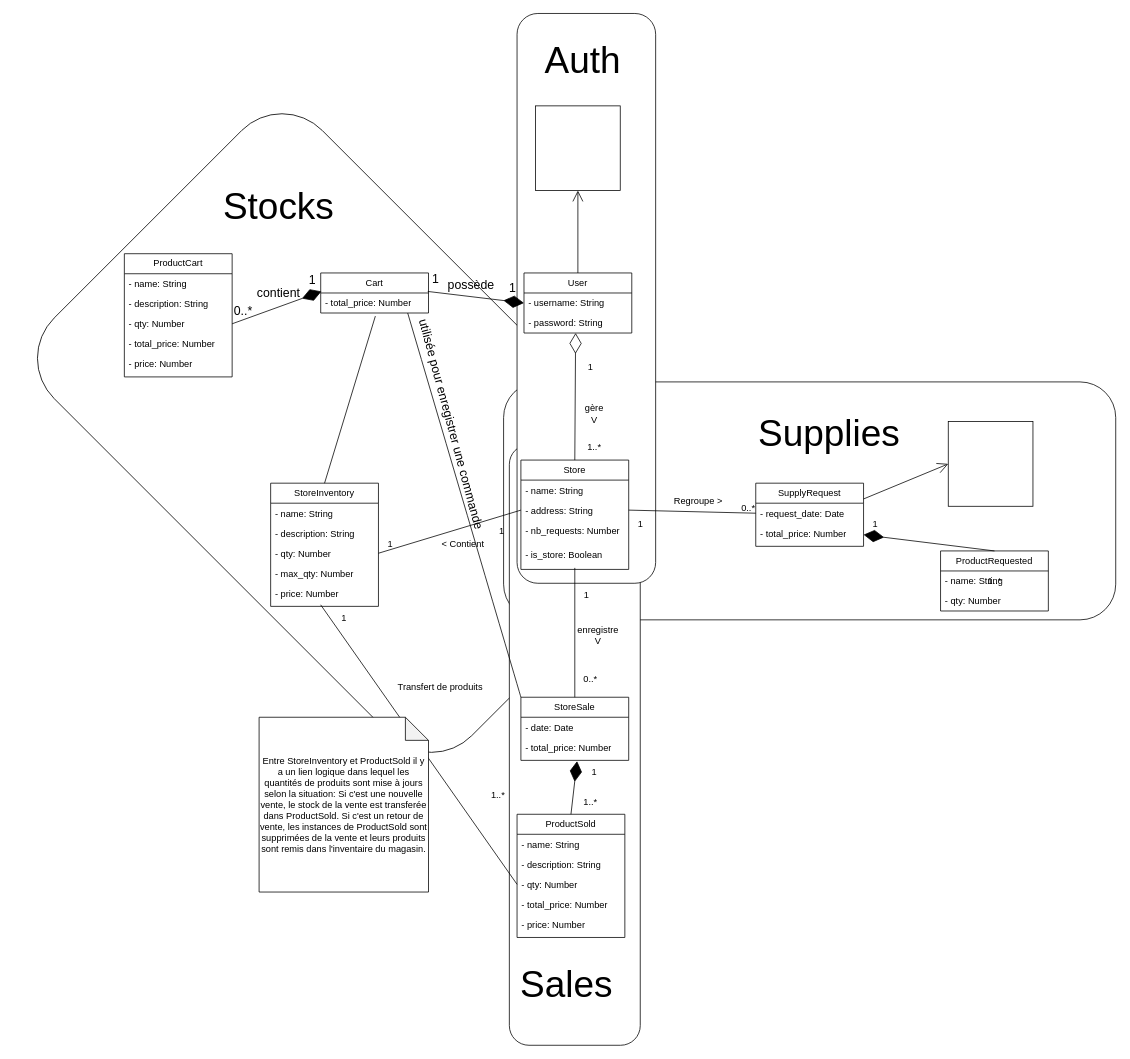
Some shapes in this 1130 by 1059 pixel diagram are drawn without their labels. The shapes that lost their labels are listed below. From the top down, each one's centre as x and y in pixels, then its label:
At [577,148]: "<<Enumeration>> type 'admin' 'seller' 'buyer'".
At [990,463]: "<<Enumeration>> status 'pending' 'approved' 'rejected' 'fulfilled'".
